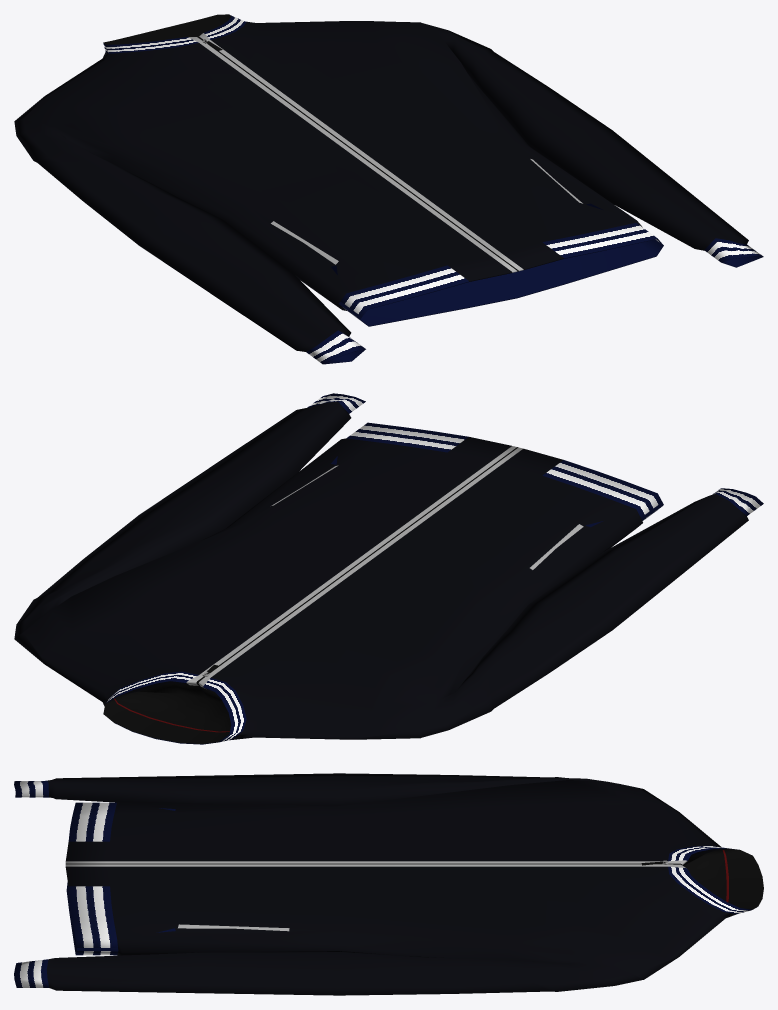
Rendered from blouson.obj.
The picture shows the model from 3 angles, top to bottom: view 1: azimuth 30°, elevation 25°; view 2: azimuth 150°, elevation 25°; view 3: azimuth 270°, elevation 25°; orthographic projection. The views are drawn at different scales.
Parts seen in each view (by area): view 1: blouson_Circle, texturedparts_Circle.003; view 2: blouson_Circle, texturedparts_Circle.003; view 3: blouson_Circle, texturedparts_Circle.003.
Boxes of the visible parts, box(x1,y1,x2,y2) form: blouson_Circle: box(14, 14, 748, 351); texturedparts_Circle.003: box(103, 15, 763, 364); blouson_Circle: box(14, 401, 748, 743); texturedparts_Circle.003: box(106, 393, 763, 744); blouson_Circle: box(46, 773, 763, 995); texturedparts_Circle.003: box(14, 780, 756, 987).
Size of the model in its own units: 51.28 by 3.22 by 73.15.
7 materials, 1 textured.
